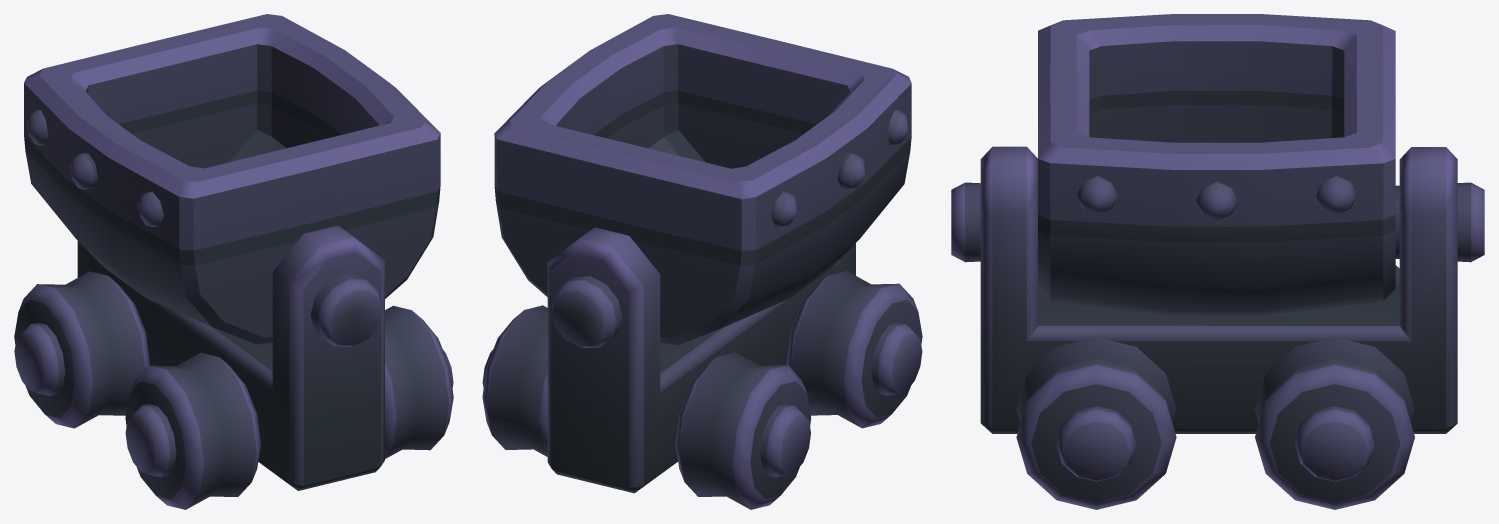
File: undead_minecart.fbx
3 views of the same model, side by side, from view 1: azimuth 30°, elevation 25°; view 2: azimuth 150°, elevation 25°; view 3: azimuth 270°, elevation 25° (orthographic). The views are drawn at different scales.
Parts seen in each view (by area): view 1: undead_minecart; view 2: undead_minecart; view 3: undead_minecart.
Part boxes in pixels (box(x1,y1,x2,y2)): undead_minecart: box(14, 14, 453, 509); undead_minecart: box(482, 14, 922, 509); undead_minecart: box(951, 14, 1484, 509).
Size of the model in its own units: 1.35 by 1.34 by 1.8.
